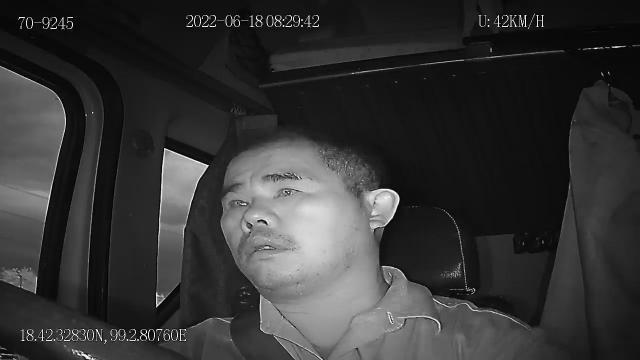SafeDriving: (267, 176, 308, 204), (223, 190, 257, 214)
Seatbelt: (228, 308, 298, 360)
